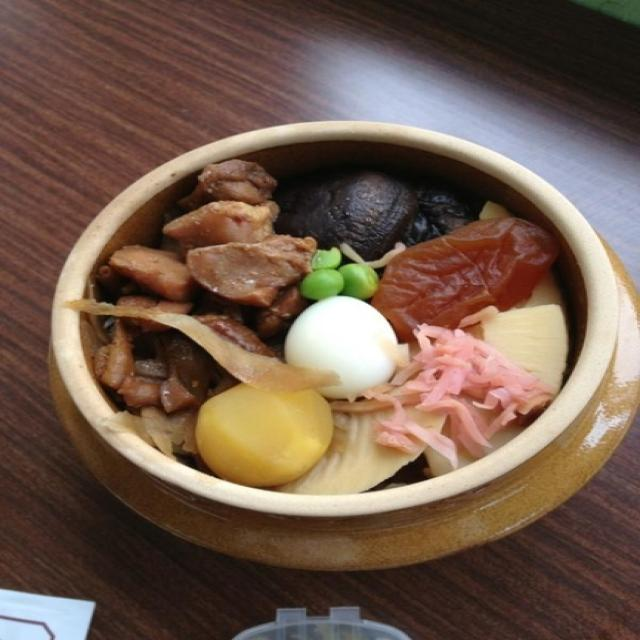猪肉菜式: (0, 77, 640, 593)
